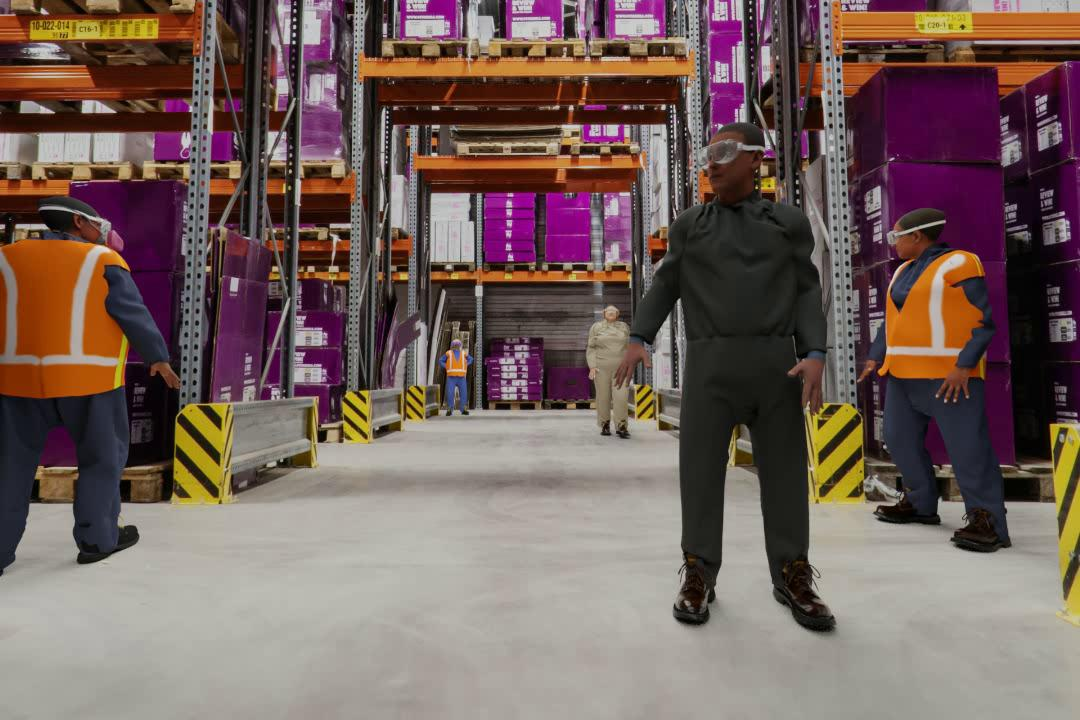Goggles: (38, 198, 131, 245), (875, 218, 961, 250), (696, 136, 781, 165)
Jacket: (5, 238, 138, 408), (883, 258, 987, 389), (446, 349, 470, 377)
Shoes: (766, 545, 838, 641), (671, 549, 726, 640), (69, 514, 151, 566), (870, 485, 945, 526), (949, 511, 1023, 552), (608, 410, 624, 429), (599, 417, 613, 438), (459, 405, 474, 416), (440, 408, 456, 418)
